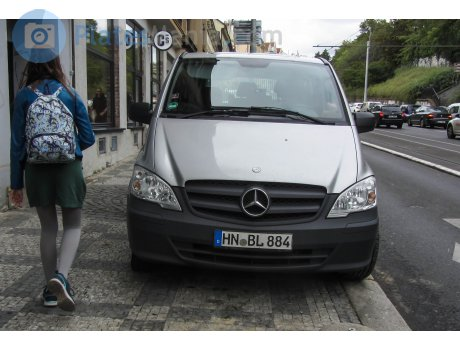License Plates: (225, 230, 289, 244)
